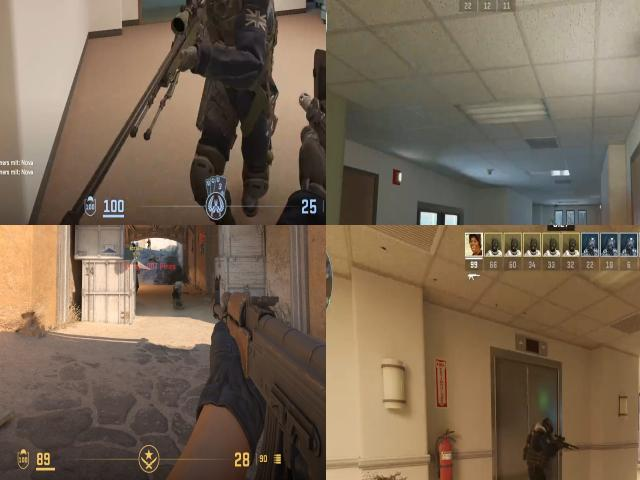CT: (184, 0, 270, 140), (526, 408, 557, 480), (147, 239, 151, 249)
CT-Head: (534, 416, 554, 434), (148, 239, 150, 242)
Dead: (173, 280, 184, 306), (149, 255, 159, 262)
T: (136, 261, 140, 293)
T-Head: (136, 260, 138, 266)
